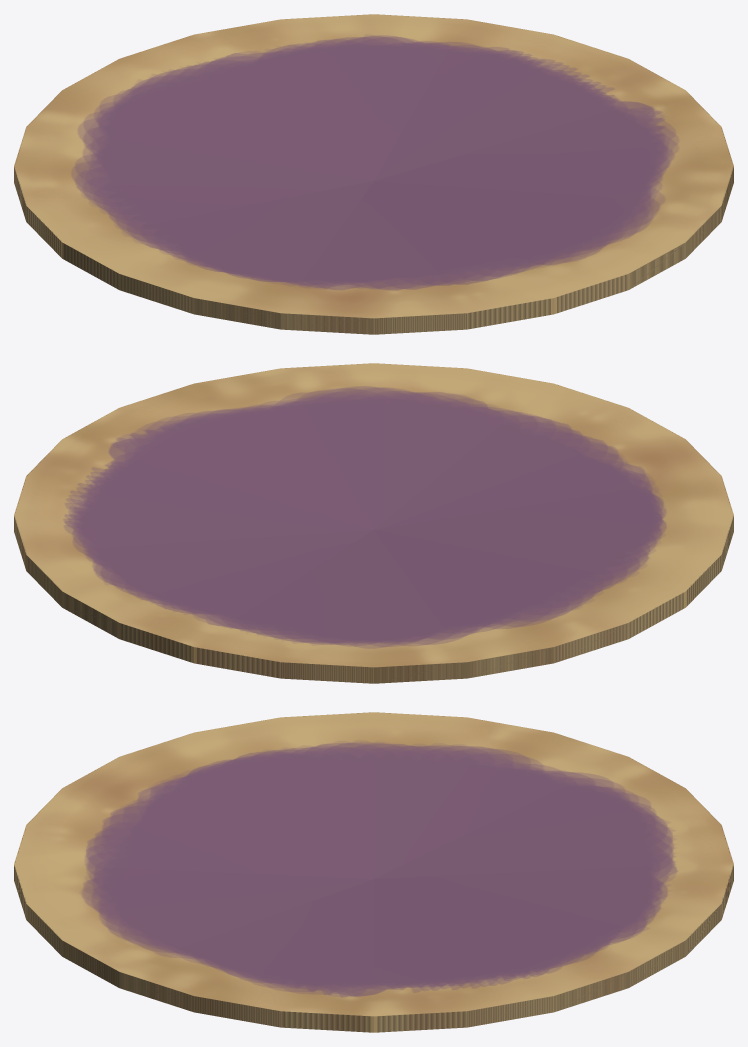
File: stage.fbx
The picture shows the model from 3 angles, top to bottom: view 1: azimuth 30°, elevation 25°; view 2: azimuth 150°, elevation 25°; view 3: azimuth 270°, elevation 25°; orthographic projection.
Parts seen in each view (by area): view 1: piece7, piece6, piece3, piece8, piece2, piece4, piece5, piece1; view 2: piece4, piece5, piece8, piece3, piece1, piece7, piece6, piece2; view 3: piece1, piece2, piece5, piece6, piece3, piece8, piece4, piece7.
Boxes of the visible parts, x1=… form: piece7: x1=280, y1=181, x2=553, y2=334; piece6: x1=62, y1=181, x2=373, y2=329; piece3: x1=194, y1=14, x2=466, y2=180; piece8: x1=374, y1=181, x2=721, y2=314; piece2: x1=374, y1=19, x2=685, y2=180; piece4: x1=26, y1=34, x2=373, y2=180; piece5: x1=14, y1=127, x2=372, y2=258; piece1: x1=375, y1=90, x2=733, y2=221; piece4: x1=194, y1=530, x2=467, y2=683; piece5: x1=374, y1=530, x2=685, y2=678; piece8: x1=281, y1=363, x2=553, y2=529; piece3: x1=26, y1=530, x2=373, y2=663; piece1: x1=62, y1=368, x2=373, y2=529; piece7: x1=374, y1=383, x2=721, y2=529; piece6: x1=375, y1=476, x2=733, y2=607; piece2: x1=14, y1=439, x2=372, y2=570; piece1: x1=119, y1=879, x2=373, y2=1032; piece2: x1=374, y1=879, x2=628, y2=1032; piece5: x1=374, y1=712, x2=627, y2=878; piece6: x1=120, y1=712, x2=373, y2=878; piece3: x1=374, y1=864, x2=733, y2=987; piece8: x1=14, y1=864, x2=373, y2=987; piece4: x1=374, y1=757, x2=733, y2=878; piece7: x1=14, y1=757, x2=373, y2=878.
Bounding box in the file's own units: 20 × 0.5392 × 20.
Materials: 1 (1 with a texture image).
